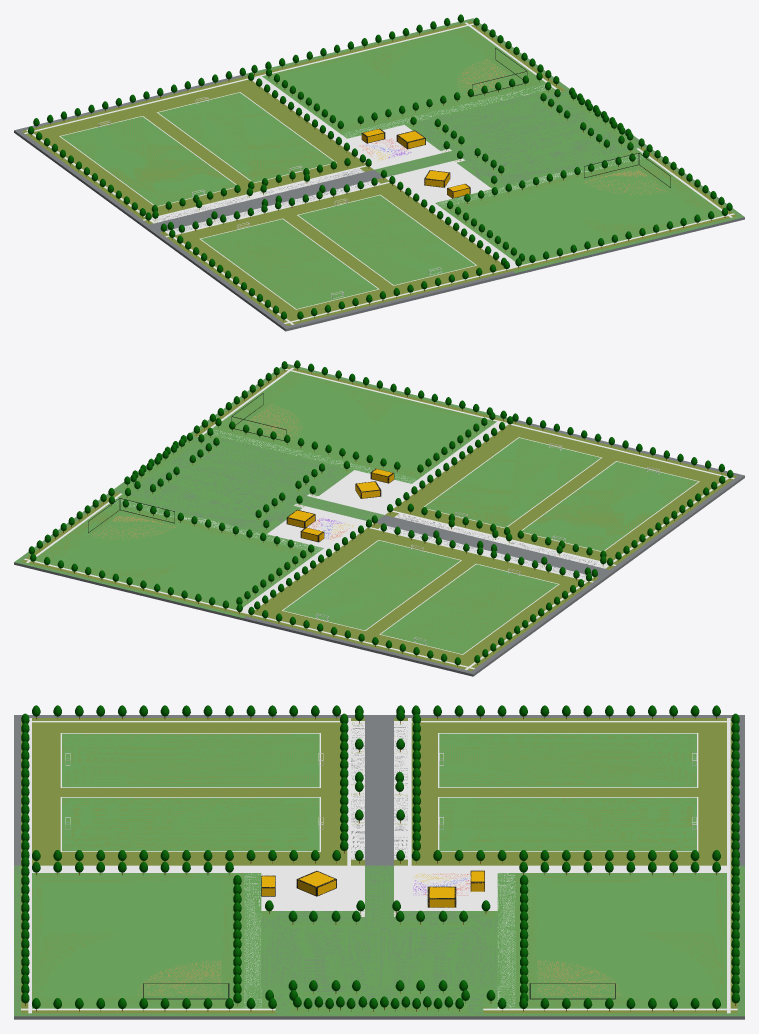
The model's file is sports_complex.dae.
The picture shows the model from 3 angles, top to bottom: view 1: azimuth 30°, elevation 25°; view 2: azimuth 150°, elevation 25°; view 3: azimuth 270°, elevation 25°; orthographic projection. The views are drawn at different scales.
Visible parts, largest first — view 1: Component_12 (×15), Component_11 (×8), Component_10 (×7); view 2: Component_12 (×15), Component_11 (×7), Component_10 (×8); view 3: Component_12 (×16), Component_11 (×9), Component_10 (×9).
Part boxes in pixels (x1,y1,x2,y2): Component_12 (×15): (14, 75, 515, 331); Component_11 (×8): (380, 118, 744, 275); Component_10 (×7): (245, 18, 601, 173); Component_12 (×15): (243, 420, 744, 676); Component_11 (×7): (153, 364, 508, 518); Component_10 (×8): (14, 465, 378, 620); Component_12 (×16): (14, 715, 744, 865); Component_11 (×9): (14, 865, 379, 1019); Component_10 (×9): (379, 865, 744, 1019).
Size of the model in its own units: 408 by 418 by 12.24.
